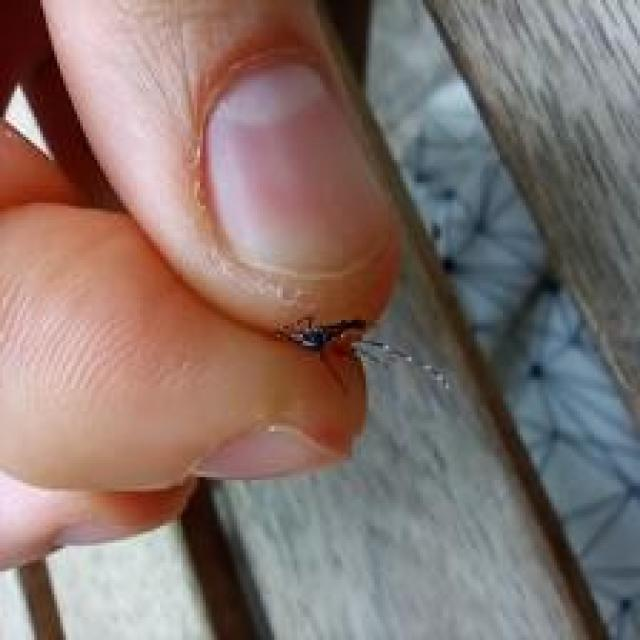Aedes albopictus: (276, 313, 453, 396)
